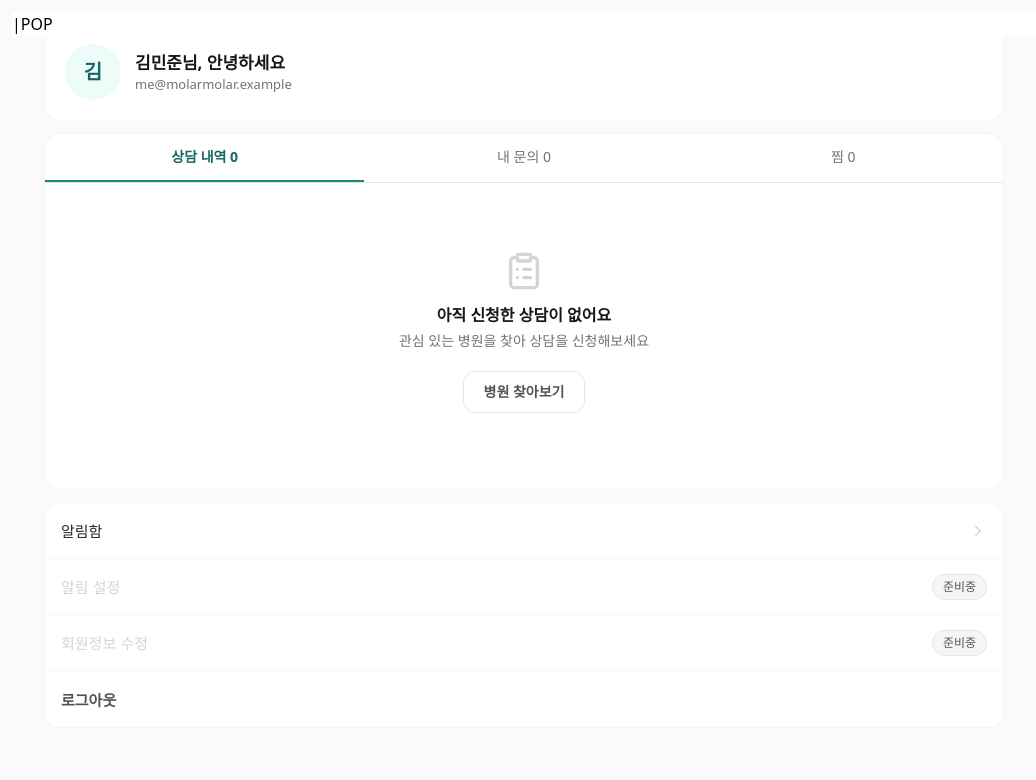
Scenario: MyPage — 메뉴와 로그아웃 › 로그아웃을 확인하면 탭·메뉴가 사라지고 로그인 카드만 남는다
(page scrolled)
Click the button "로그아웃" at (89, 700), box [61,690,116,710]
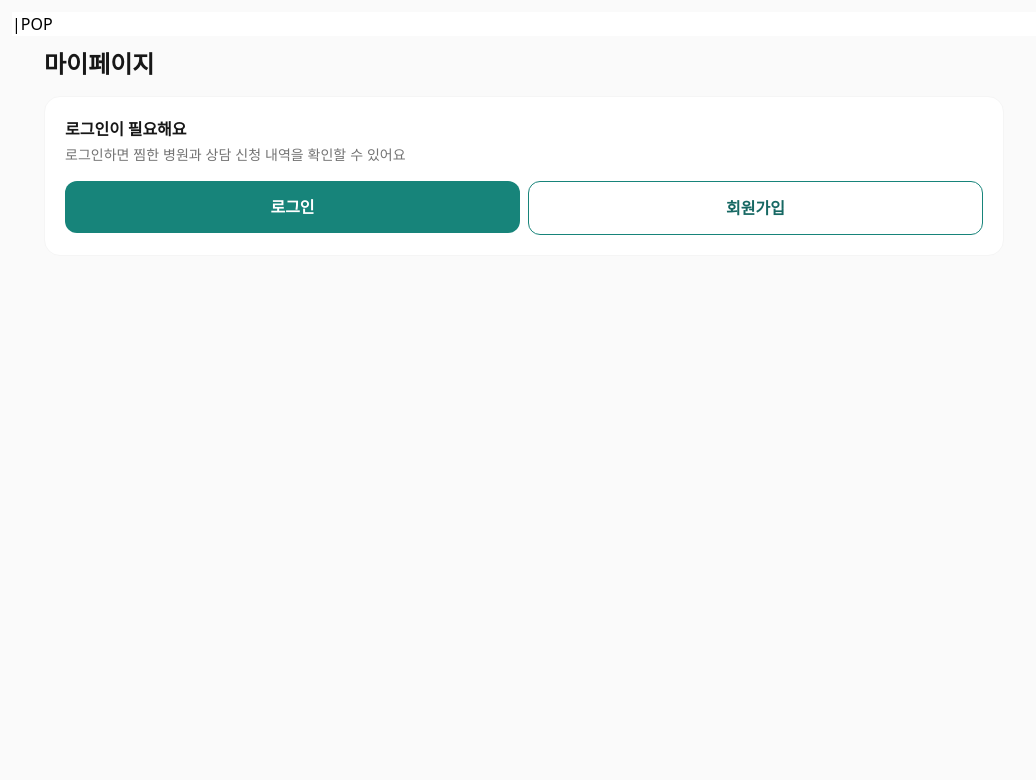
Expected: the text "로그인이 필요해요" is shown, [65,119,187,139]
